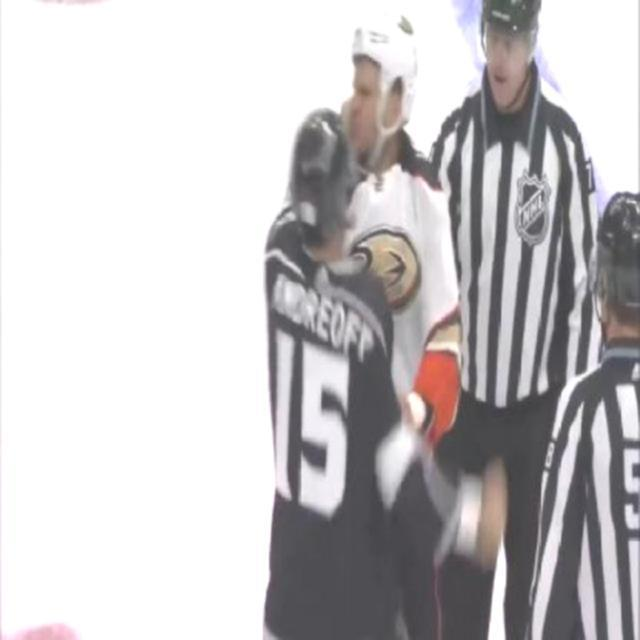fight: (263, 0, 467, 638)
